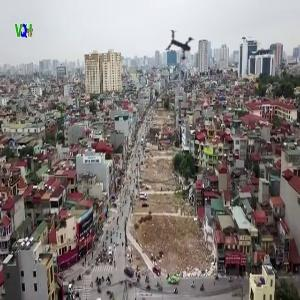drone: (165, 27, 206, 68)
